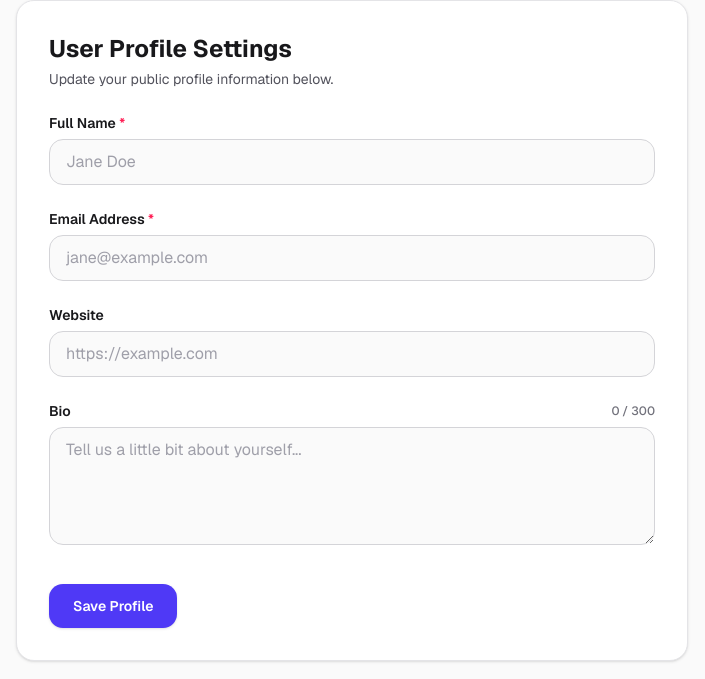
Test: ProfileForm Component UI & Accessibility Tests › renders form inputs with associated labels and live character counter
Check: the field labelled "Full Name *" is shown, box [49,139,655,185]
Check: the field labelled "Email Address *" is shown, box [49,235,655,281]
Type "Hello world!" into the text box labelled "Bio".
click(352, 486); type("Hello world!")  # box [49,427,655,545]
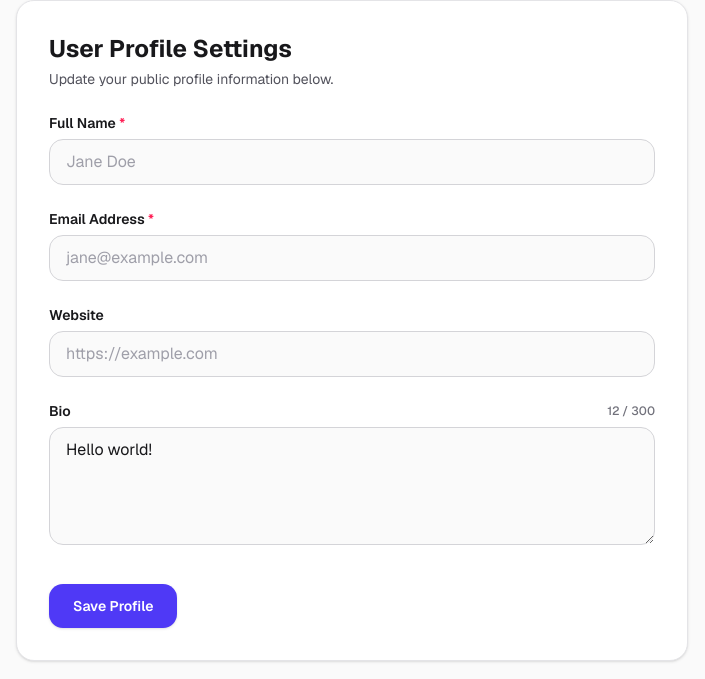
Check: the text "12 / 300" is shown, box [607,403,655,419]
